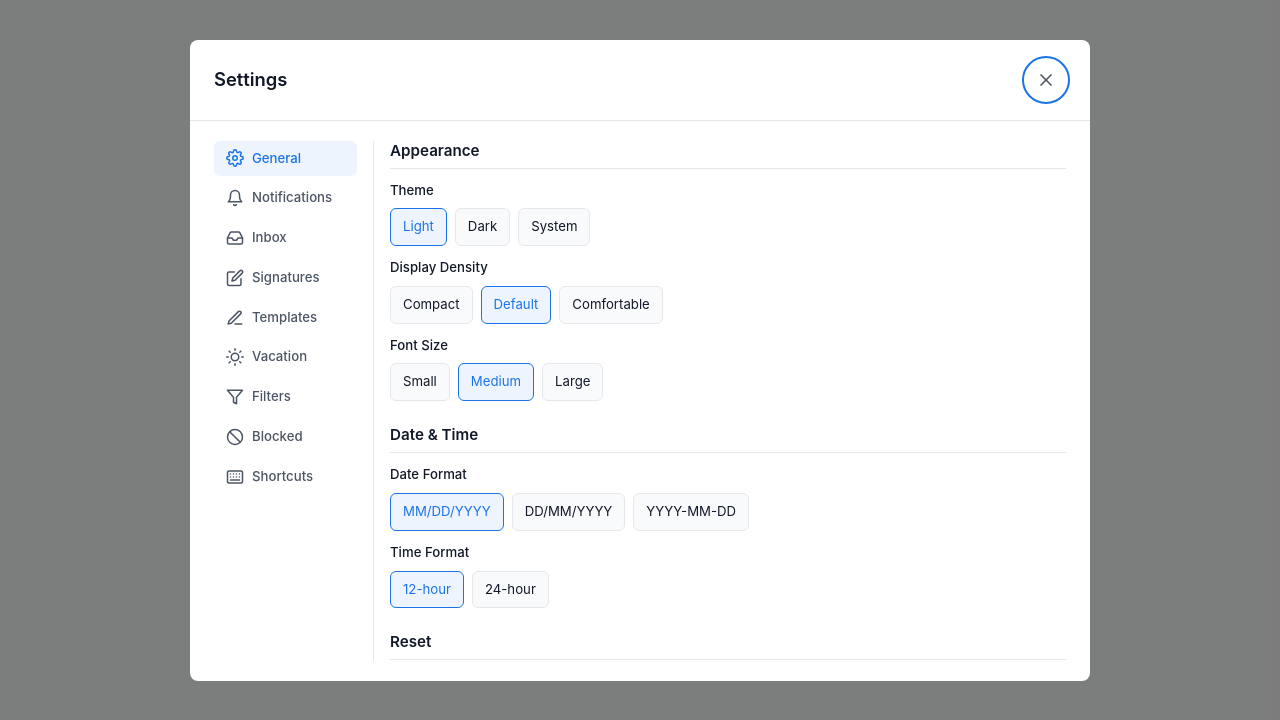
SettingsModal - Signature edit/delete (lines 491-592) › deleting an existing signature removes it from the list
Click the button "Signatures" at [286, 278], box [214, 260, 357, 296]
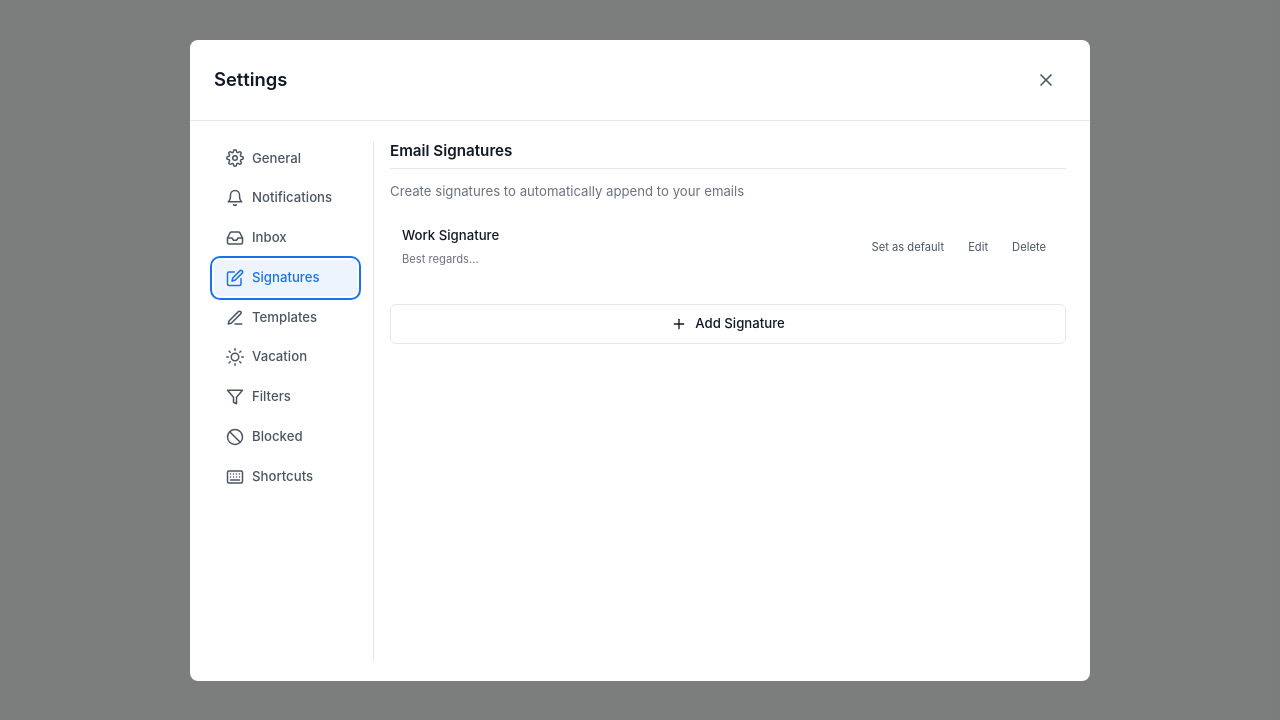
Expected: the text "Work Signature" is shown, [402, 227, 499, 243]
Click the button "Delete" at [1029, 247], box [1004, 234, 1054, 259]
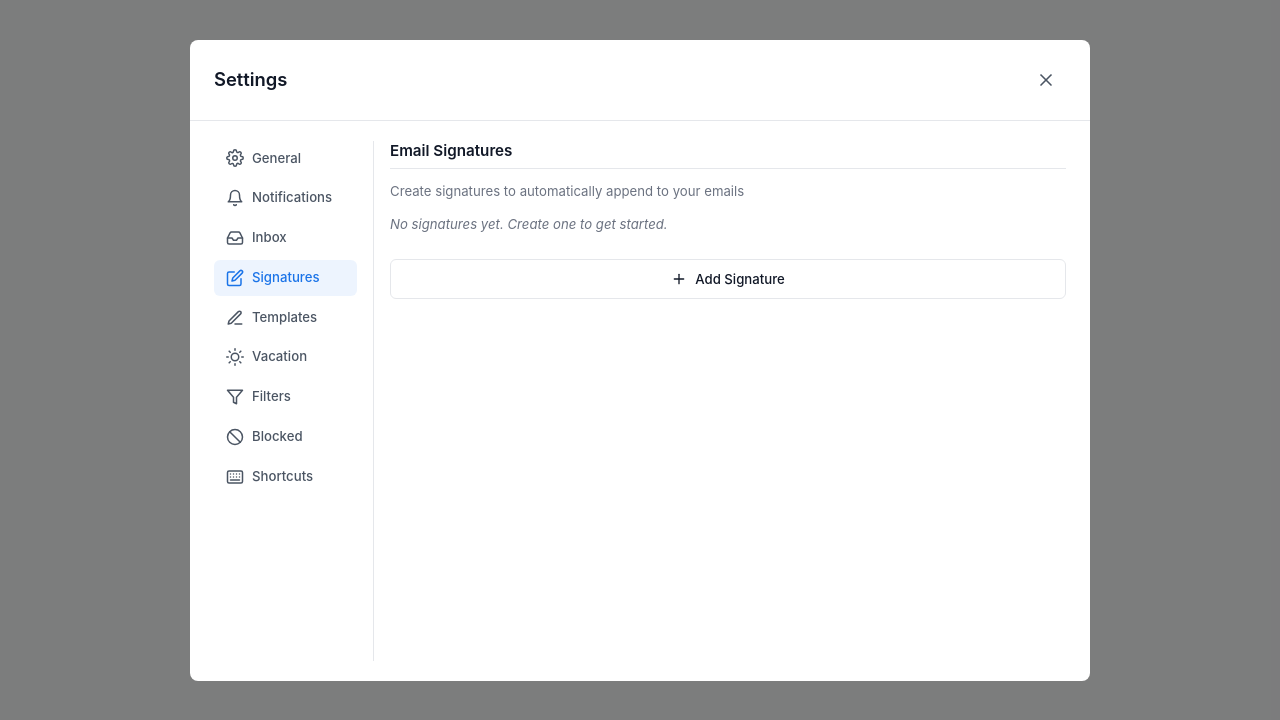
Expected: the text "Work Signature" is gone
